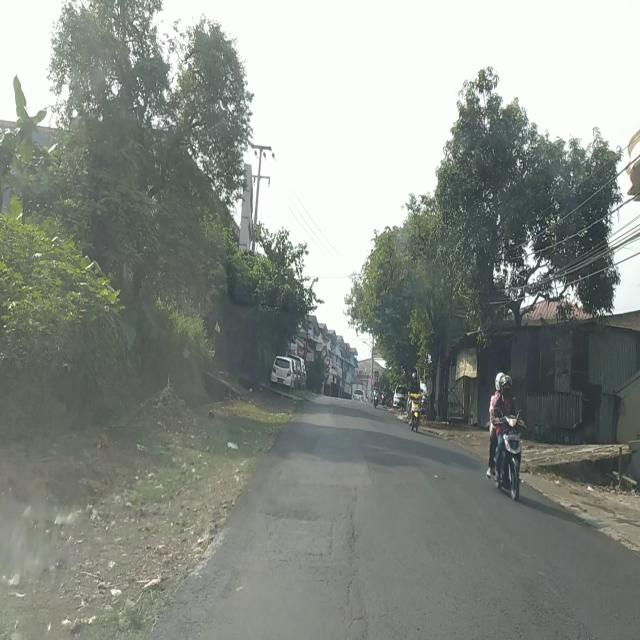Drain Hole: (277, 501, 367, 640)
